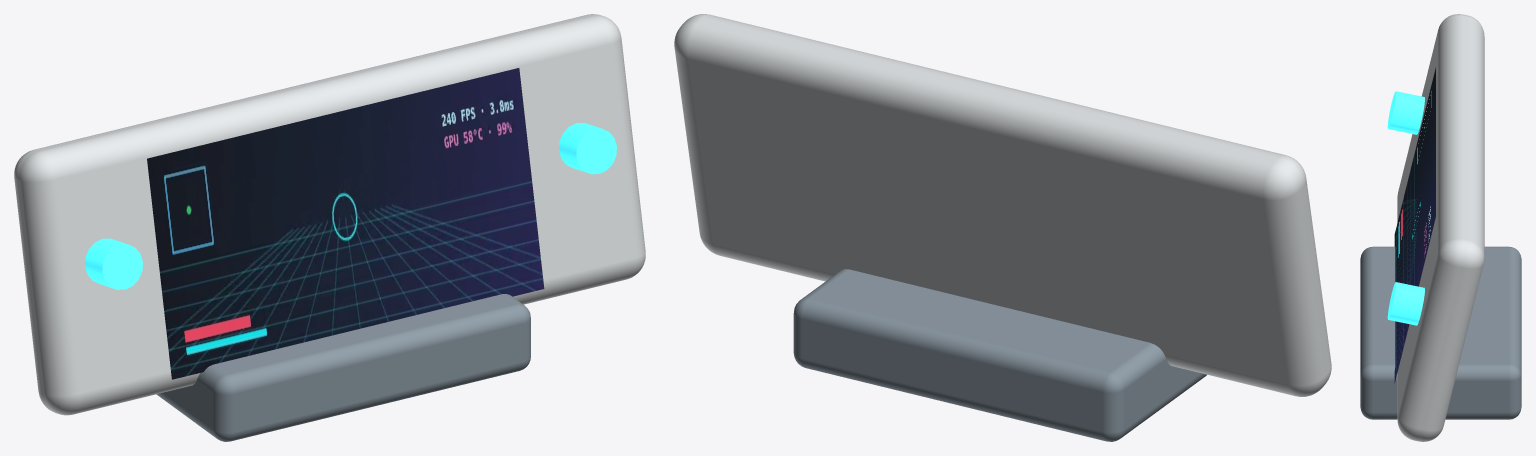
The model's file is atelier-gaming-handheld-arctic.glb.
3 renders of one model, left to right at view 1: azimuth 30°, elevation 25°; view 2: azimuth 150°, elevation 25°; view 3: azimuth 270°, elevation 25°, orthographic. The views are drawn at different scales.
Visible parts, largest first — view 1: Gaming handheld display, object 2, object 1, object 4, object 5; view 2: object 2, object 1; view 3: object 2, object 1, Gaming handheld display, object 5, object 4.
Part boxes in pixels (x1,y1,x2,y2): Gaming handheld display: (147, 68, 544, 379); object 2: (14, 14, 645, 415); object 1: (156, 294, 530, 441); object 4: (85, 238, 142, 289); object 5: (559, 123, 616, 174); object 2: (674, 14, 1331, 396); object 1: (793, 269, 1206, 441); object 2: (1397, 14, 1484, 441); object 1: (1360, 246, 1521, 419); Gaming handheld display: (1394, 67, 1435, 383); object 5: (1387, 282, 1424, 325); object 4: (1387, 91, 1424, 134).
Size of the model in its own units: 0.265 by 0.1197 by 0.075.
4 materials, 1 textured.
